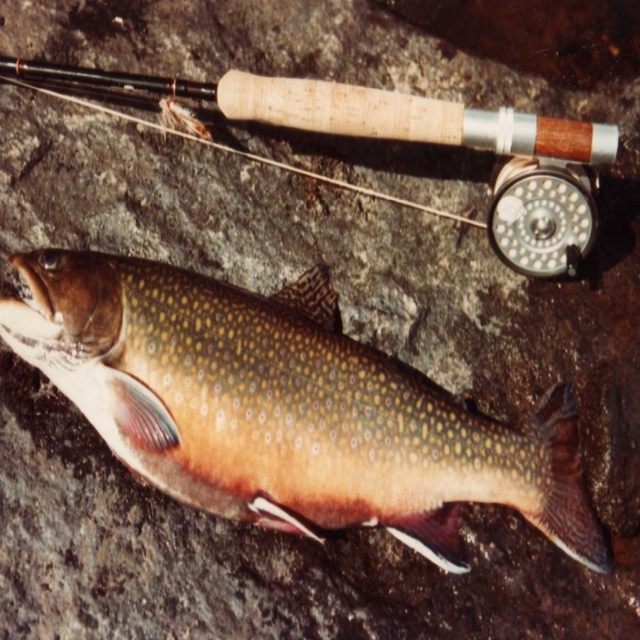Fish: (0, 246, 615, 579)
